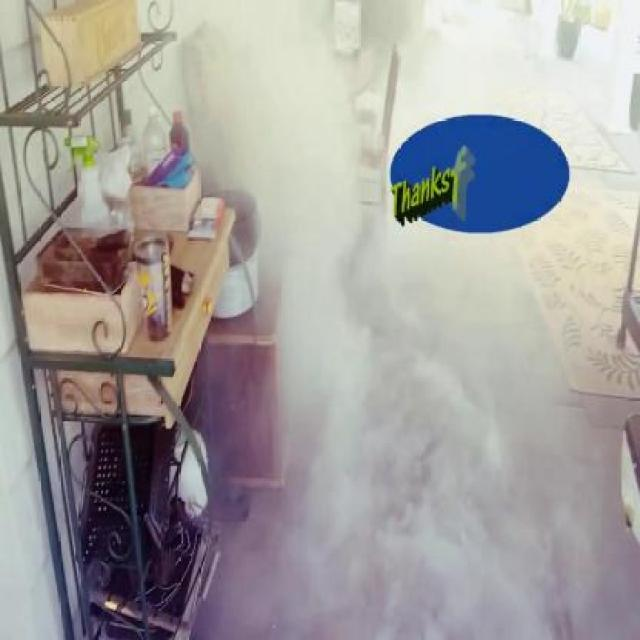smoke: (208, 25, 452, 490)
